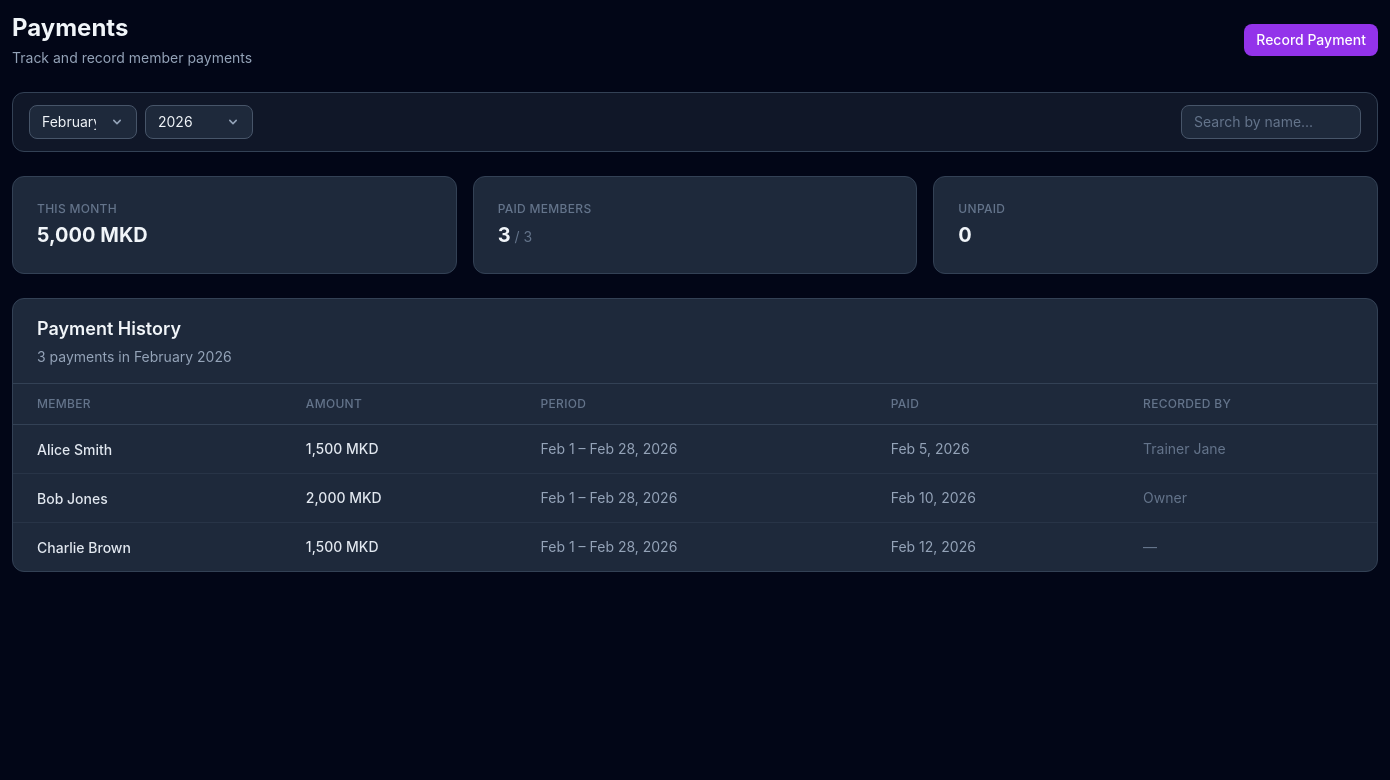
Test: TrainerPaymentsClient › Filter Edge Cases › clicking Clear resets filters and fetches current month data
Type something in search to make clear button visible
Type "test" into the field named "Search payments by member name" at (1271, 122), box [1181,105,1361,139]
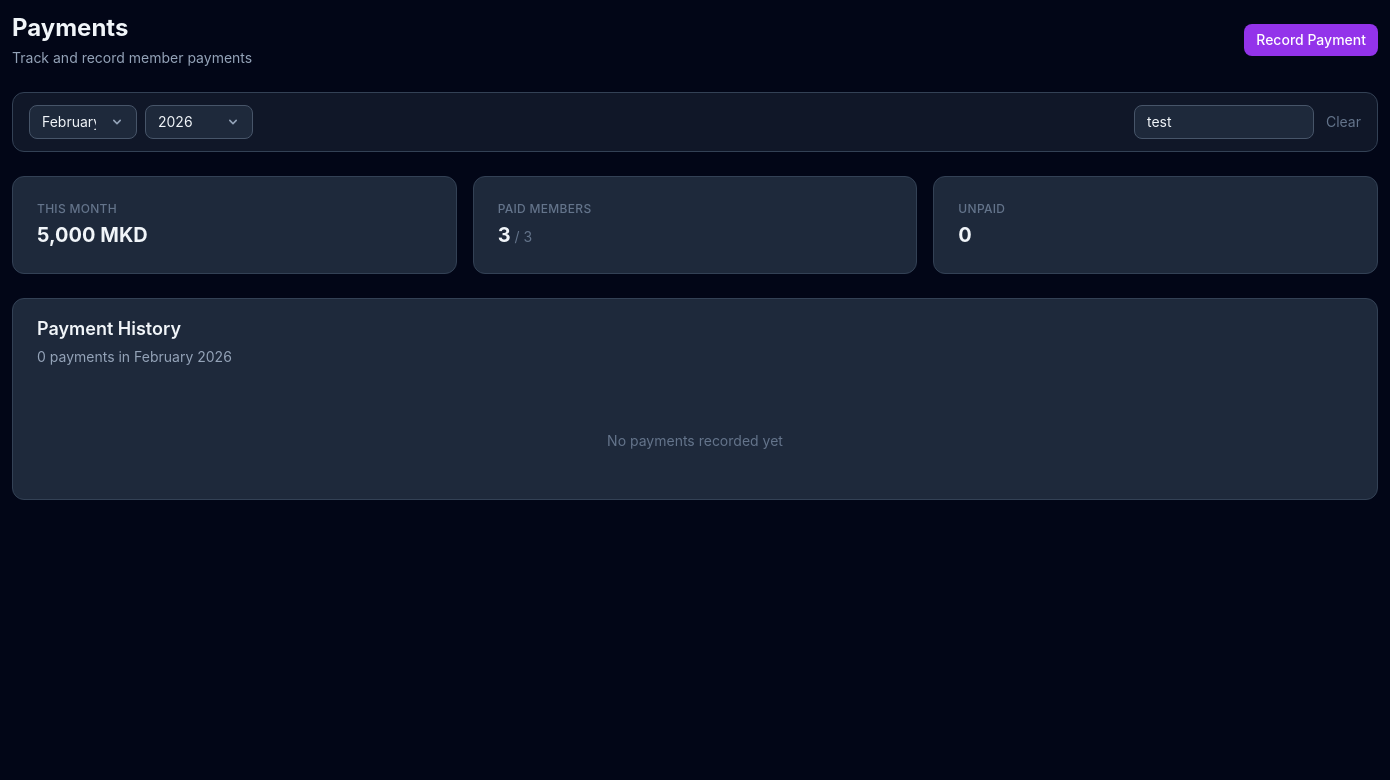
Result: the button "Clear" is shown
Click clear
Click the button "Clear" at (1343, 122), box [1326,112,1361,132]
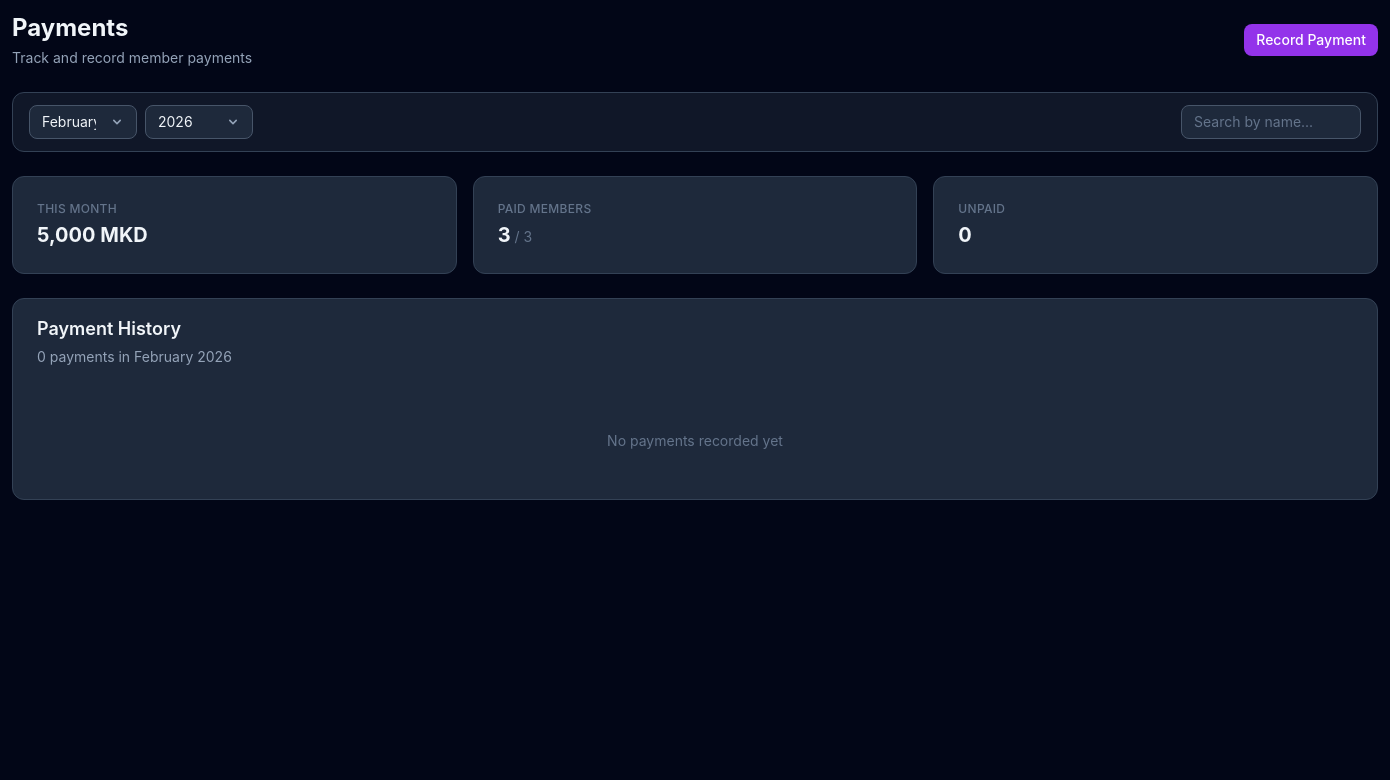
Result: the field named "Search payments by member name" is empty at [1181,105,1361,139]
